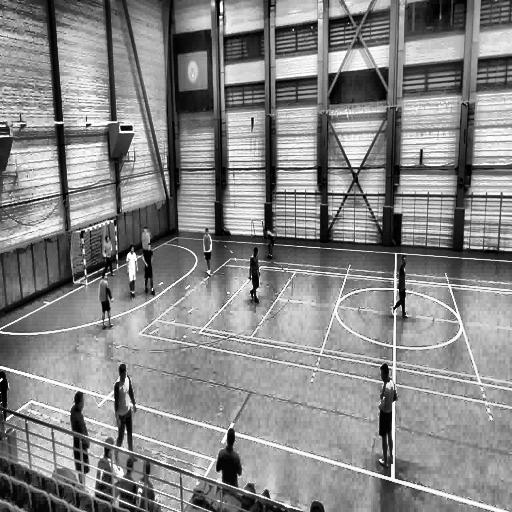player: (374, 358, 396, 470), (114, 365, 136, 462), (71, 392, 90, 490), (392, 254, 407, 319), (99, 268, 114, 329), (249, 246, 261, 302), (142, 241, 154, 296), (126, 244, 138, 298), (263, 224, 277, 264), (102, 235, 114, 276), (203, 228, 212, 276), (141, 225, 150, 250)
